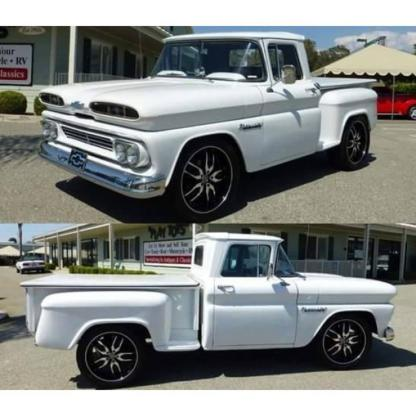Truck: (38, 31, 378, 223), (19, 232, 398, 386)
